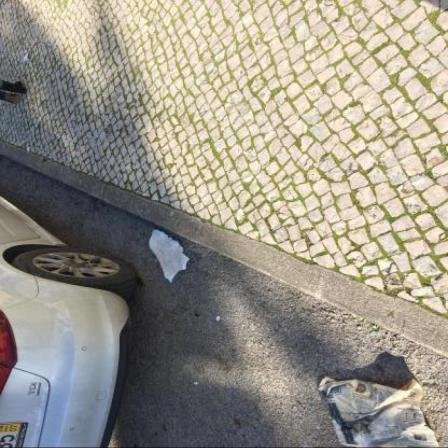Paper: (319, 379, 441, 448)
Styrofoam piece: (150, 231, 190, 285), (217, 317, 221, 323)
Unlabeled litter: (25, 52, 31, 62)
